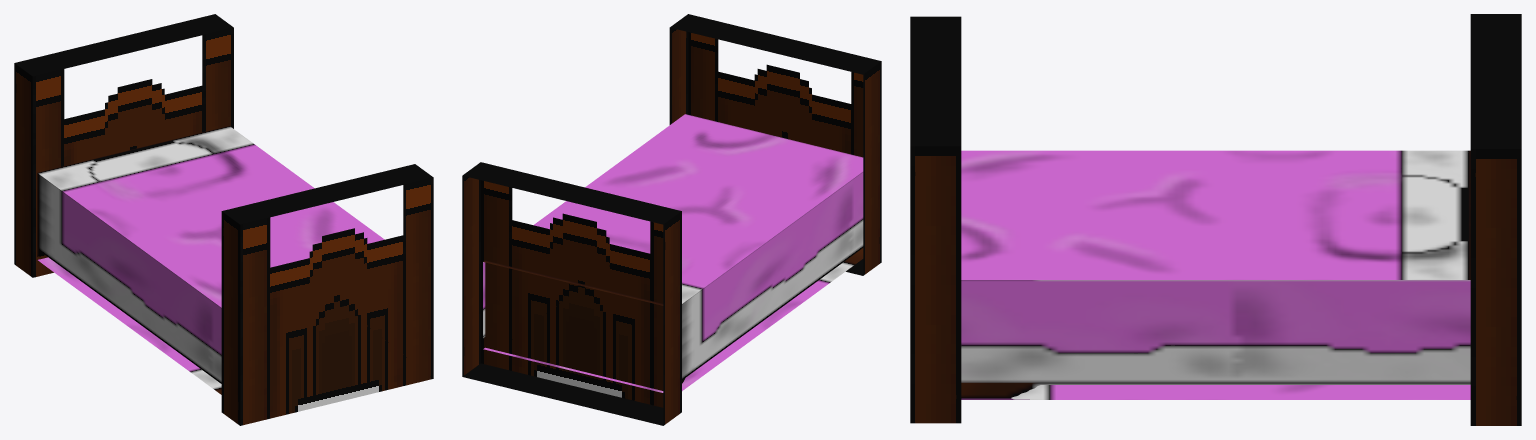
Rendered from HomeBed.fbx.
3 views of the same model, side by side, from view 1: azimuth 30°, elevation 25°; view 2: azimuth 150°, elevation 25°; view 3: azimuth 270°, elevation 25° (orthographic). The views are drawn at different scales.
Parts seen in each view (by area): view 1: BedTop_1, Bed, BedTop; view 2: BedTop, Bed, BedTop_1; view 3: Bed, BedTop, BedTop_1.
Boxes of the visible parts, left/top/right/bottom form: BedTop_1: left=221, top=164, right=433, bottom=425; Bed: left=37, top=126, right=384, bottom=394; BedTop: left=14, top=14, right=233, bottom=277; BedTop: left=462, top=162, right=681, bottom=425; Bed: left=483, top=114, right=863, bottom=392; BedTop_1: left=669, top=14, right=881, bottom=275; Bed: left=961, top=150, right=1470, bottom=399; BedTop: left=1470, top=14, right=1521, bottom=425; BedTop_1: left=910, top=16, right=961, bottom=423.
Bounding box in the file's own units: 314 × 300 × 600.
6 materials, 5 textured.
